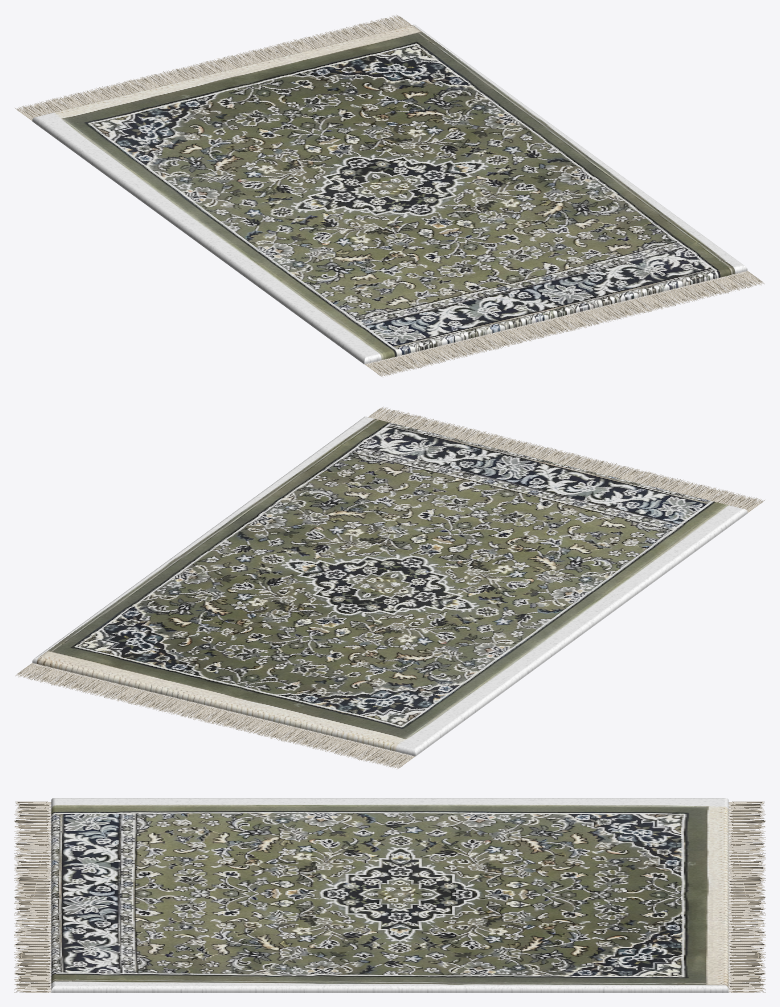
3 views of the same model, one above another, from view 1: azimuth 30°, elevation 25°; view 2: azimuth 150°, elevation 25°; view 3: azimuth 270°, elevation 25° (orthographic). The views are drawn at different scales.
Parts seen in each view (by area): view 1: k17; view 2: k17; view 3: k17.
Part boxes in pixels (x1,y1,x2,y2): k17: (15,15,764,376); k17: (15,407,764,768); k17: (14,798,765,992).
Bounding box in the file's own units: 0.8 × 0.0105 × 1.33.
Materials: 3 (2 with a texture image).
